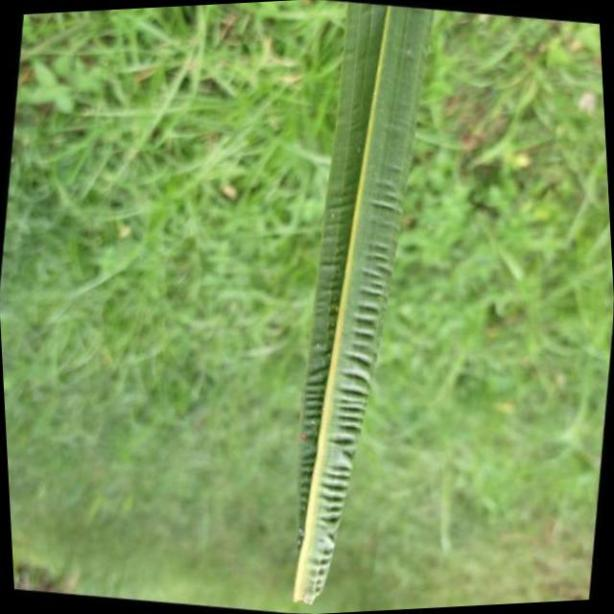Boron: (289, 3, 437, 614)
